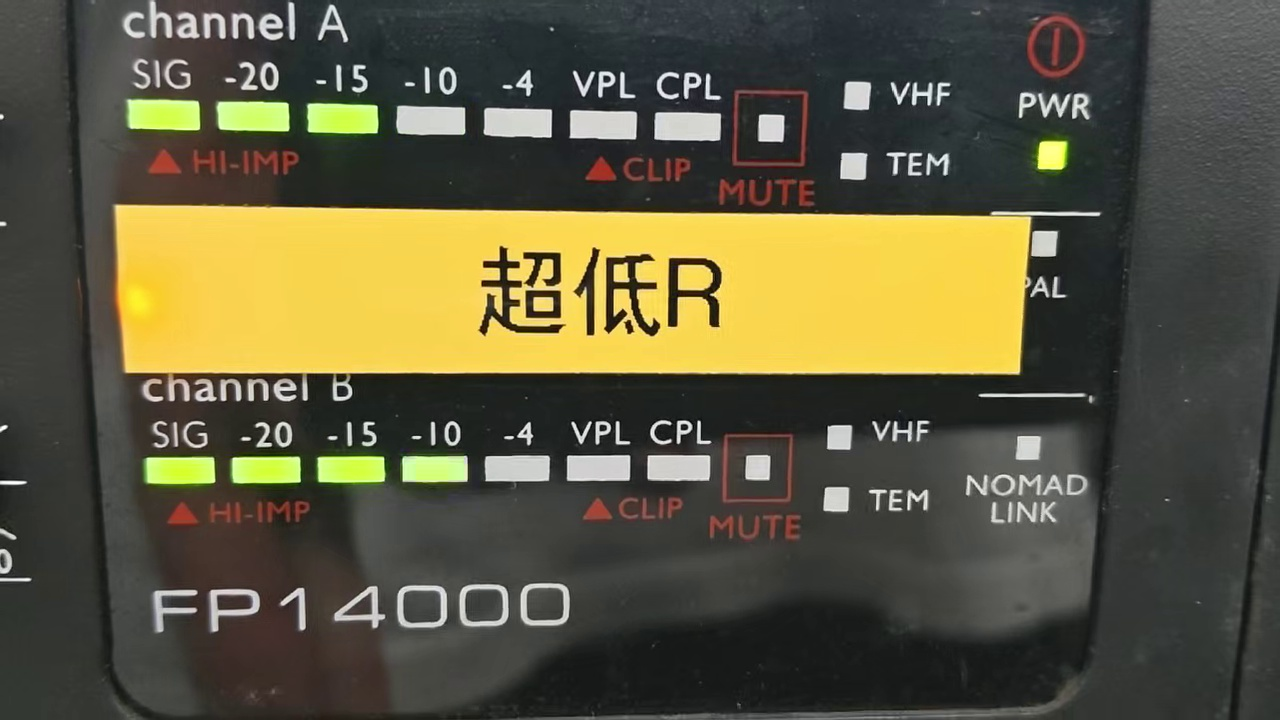FP_CPL: (647, 61, 728, 148), (643, 411, 717, 490)
FP_PWR: (985, 89, 1109, 177)
FP_PWR_area: (987, 9, 1109, 214)
FP_SIG_area: (118, 51, 974, 211), (125, 411, 937, 542)
FP_VPL: (562, 62, 644, 145), (562, 412, 634, 489)
